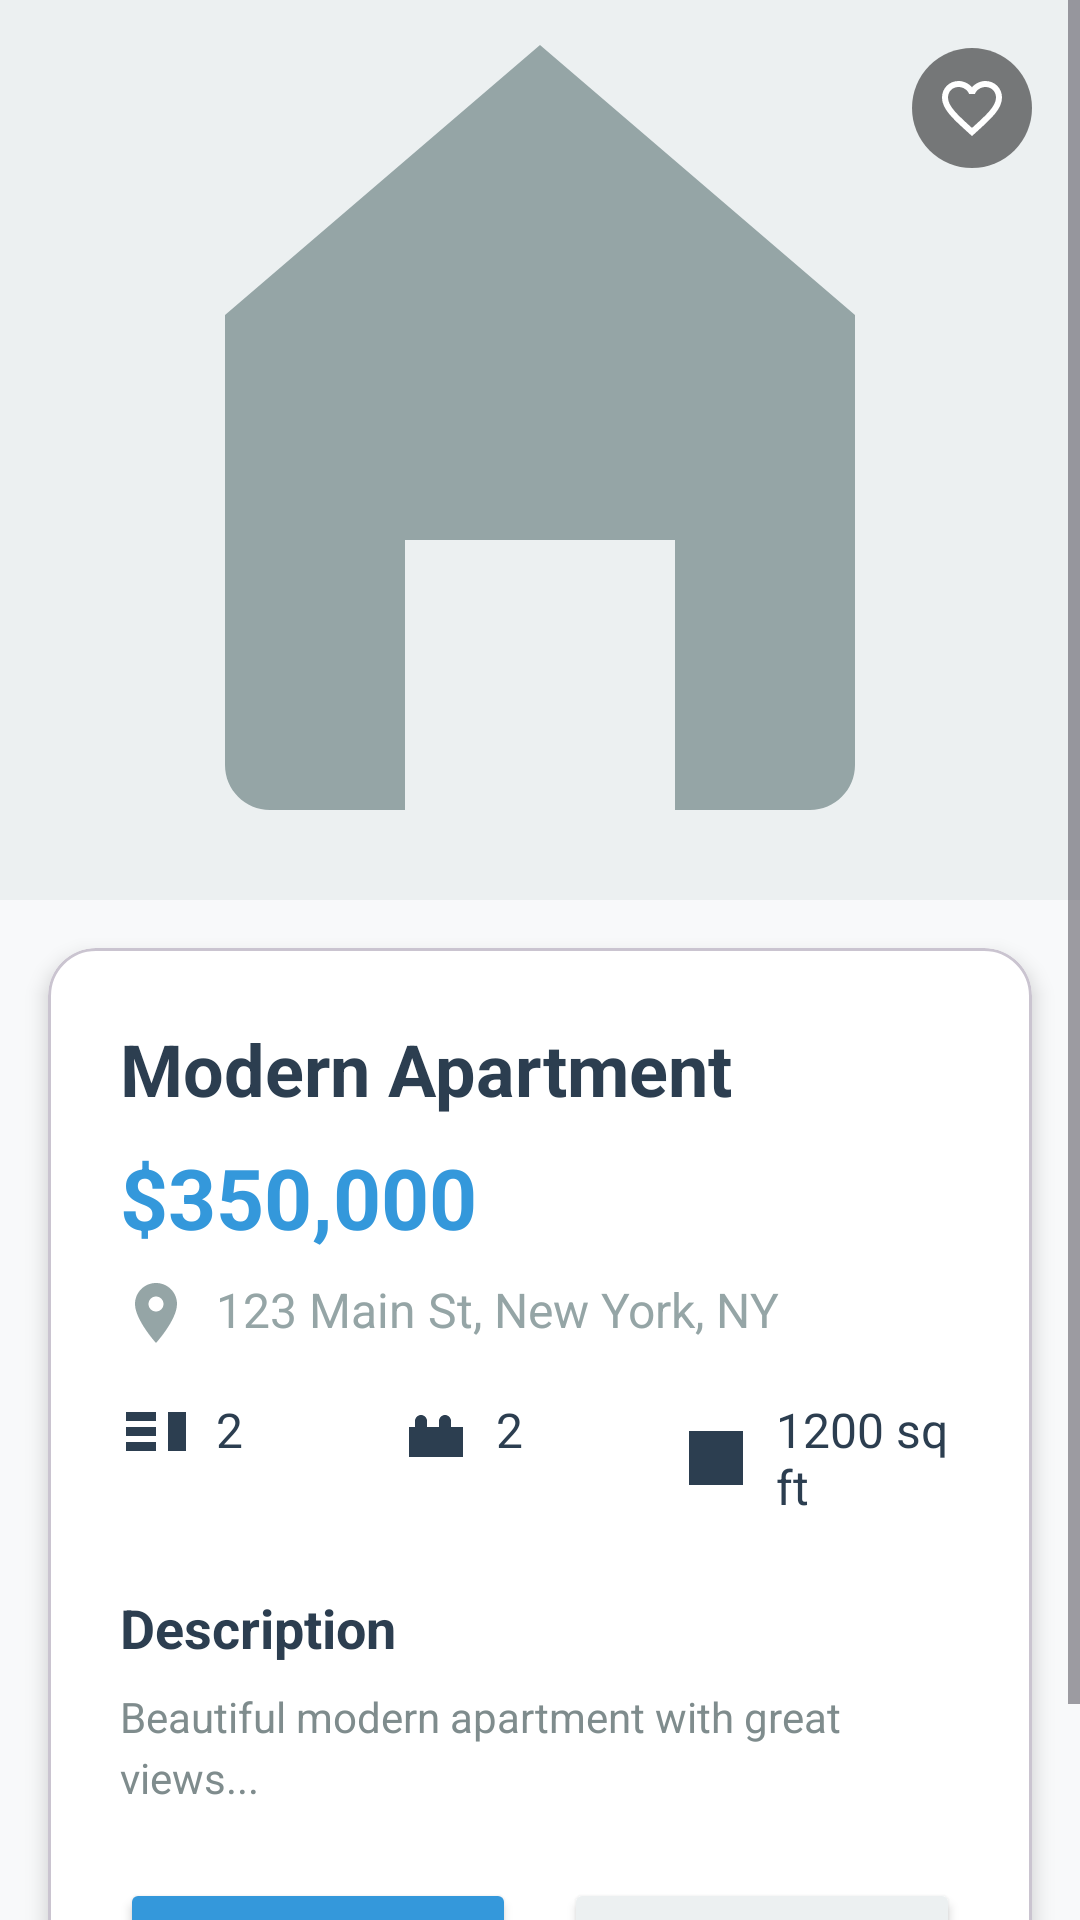

Point at icon controls on the screen. Image size 1080*1920, points as [x,y].
favorite border: [972,108]
